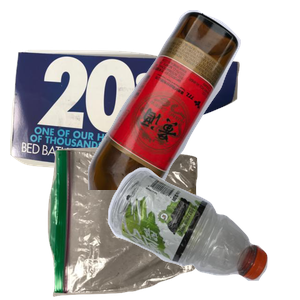glass: (85, 10, 300, 190)
paper: (10, 41, 242, 207)
plastic: (105, 165, 300, 300)
trash: (45, 144, 235, 300)
